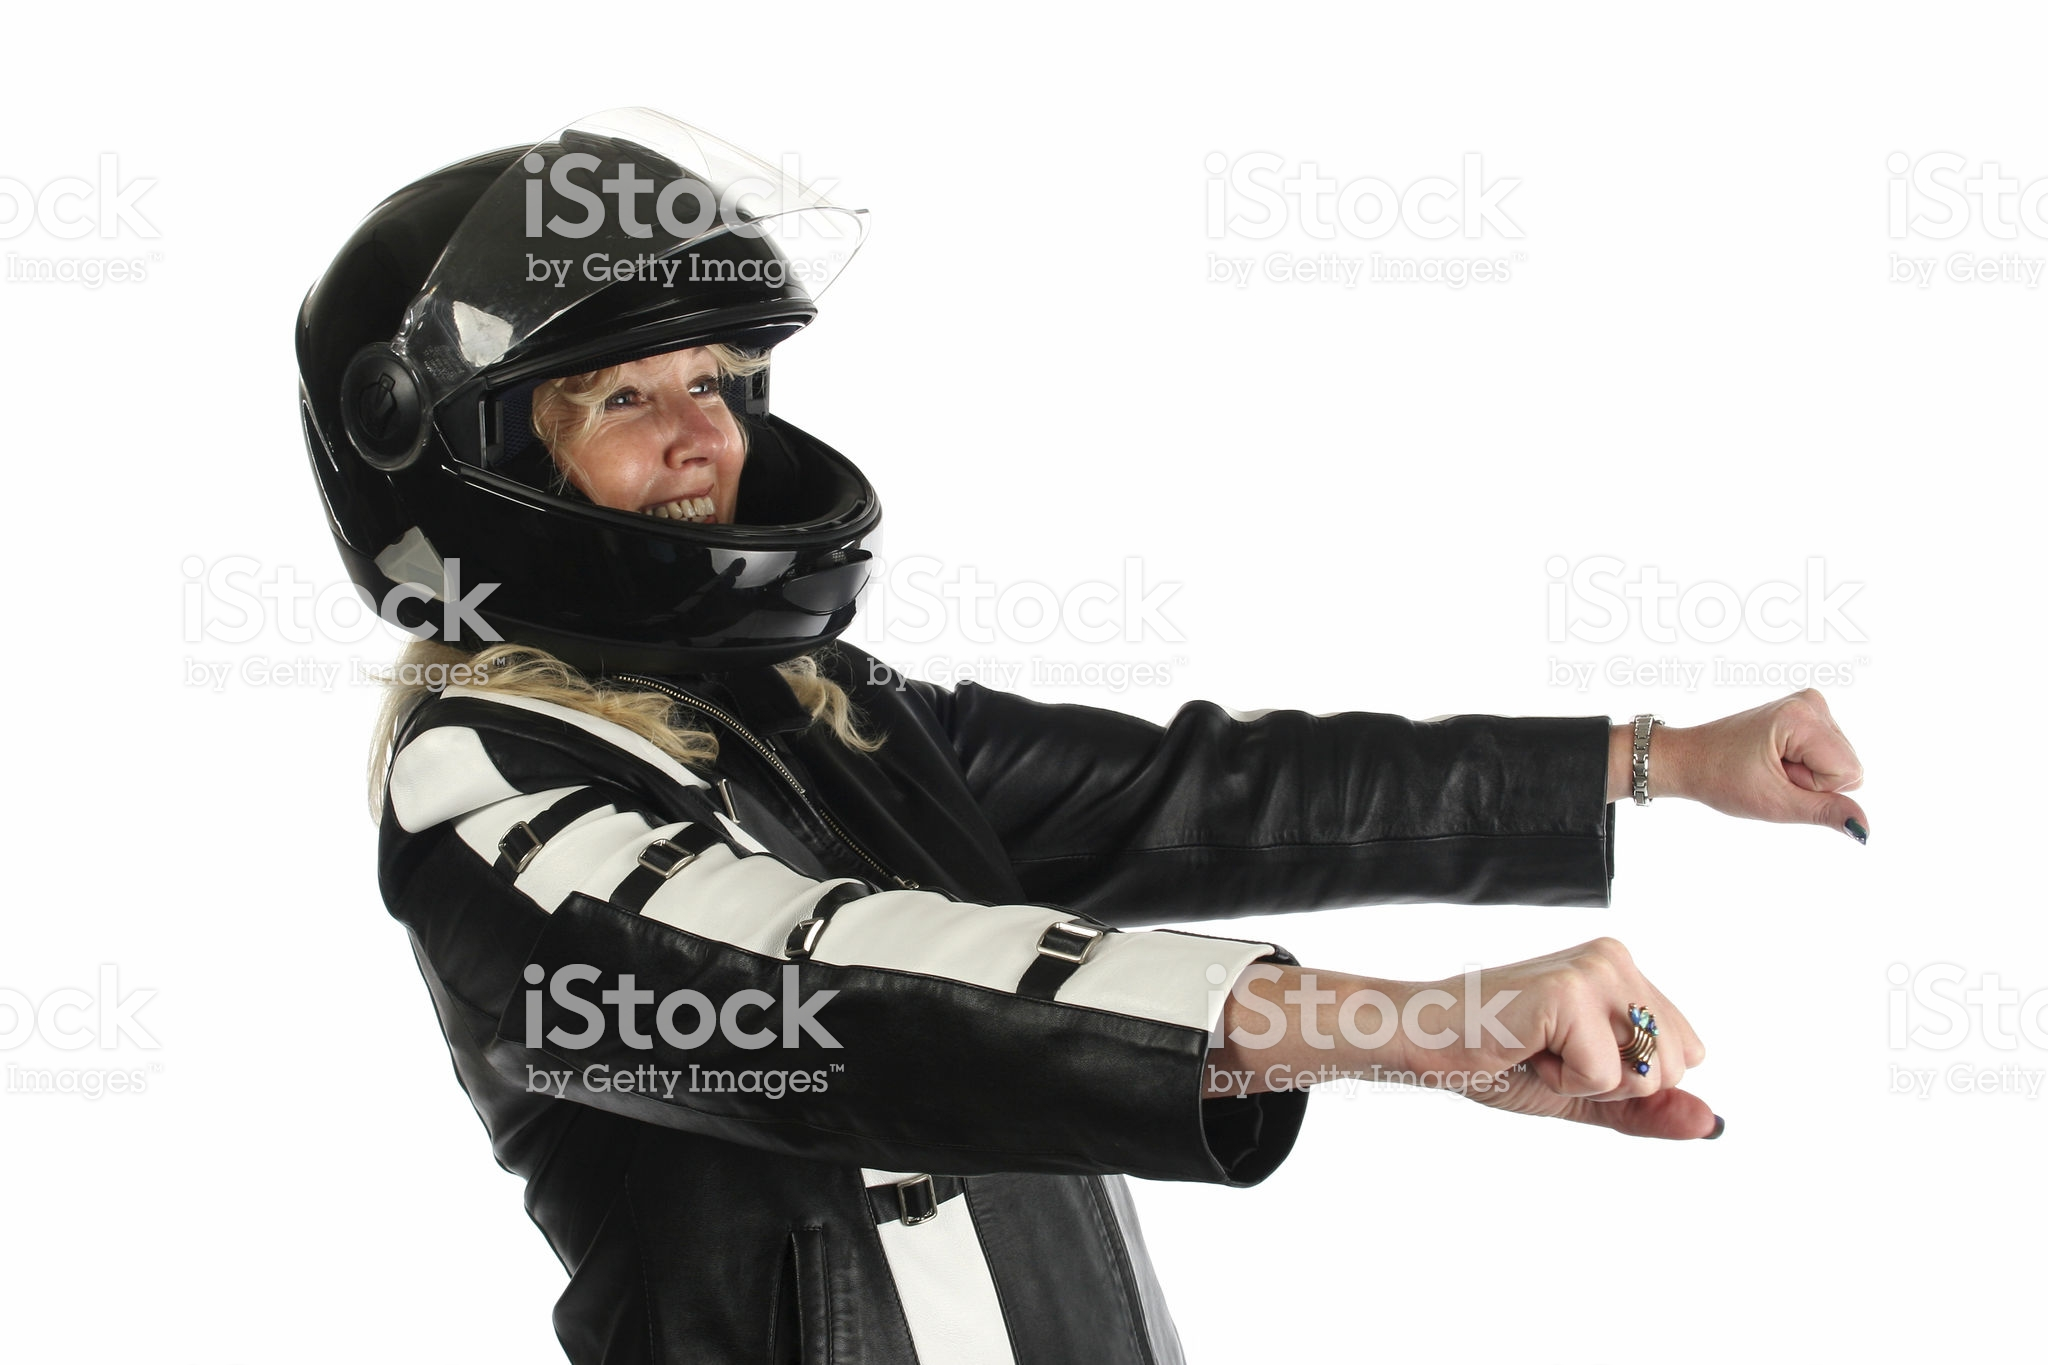helmet: (263, 165, 886, 676)
